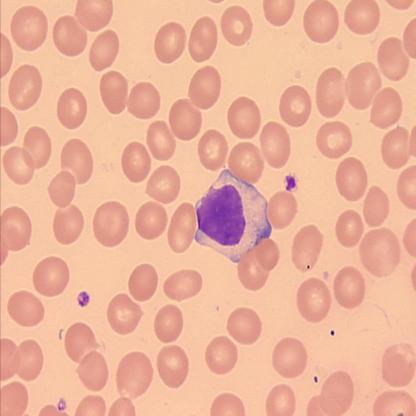Atypical lymphocyte: (194, 167, 272, 264)
